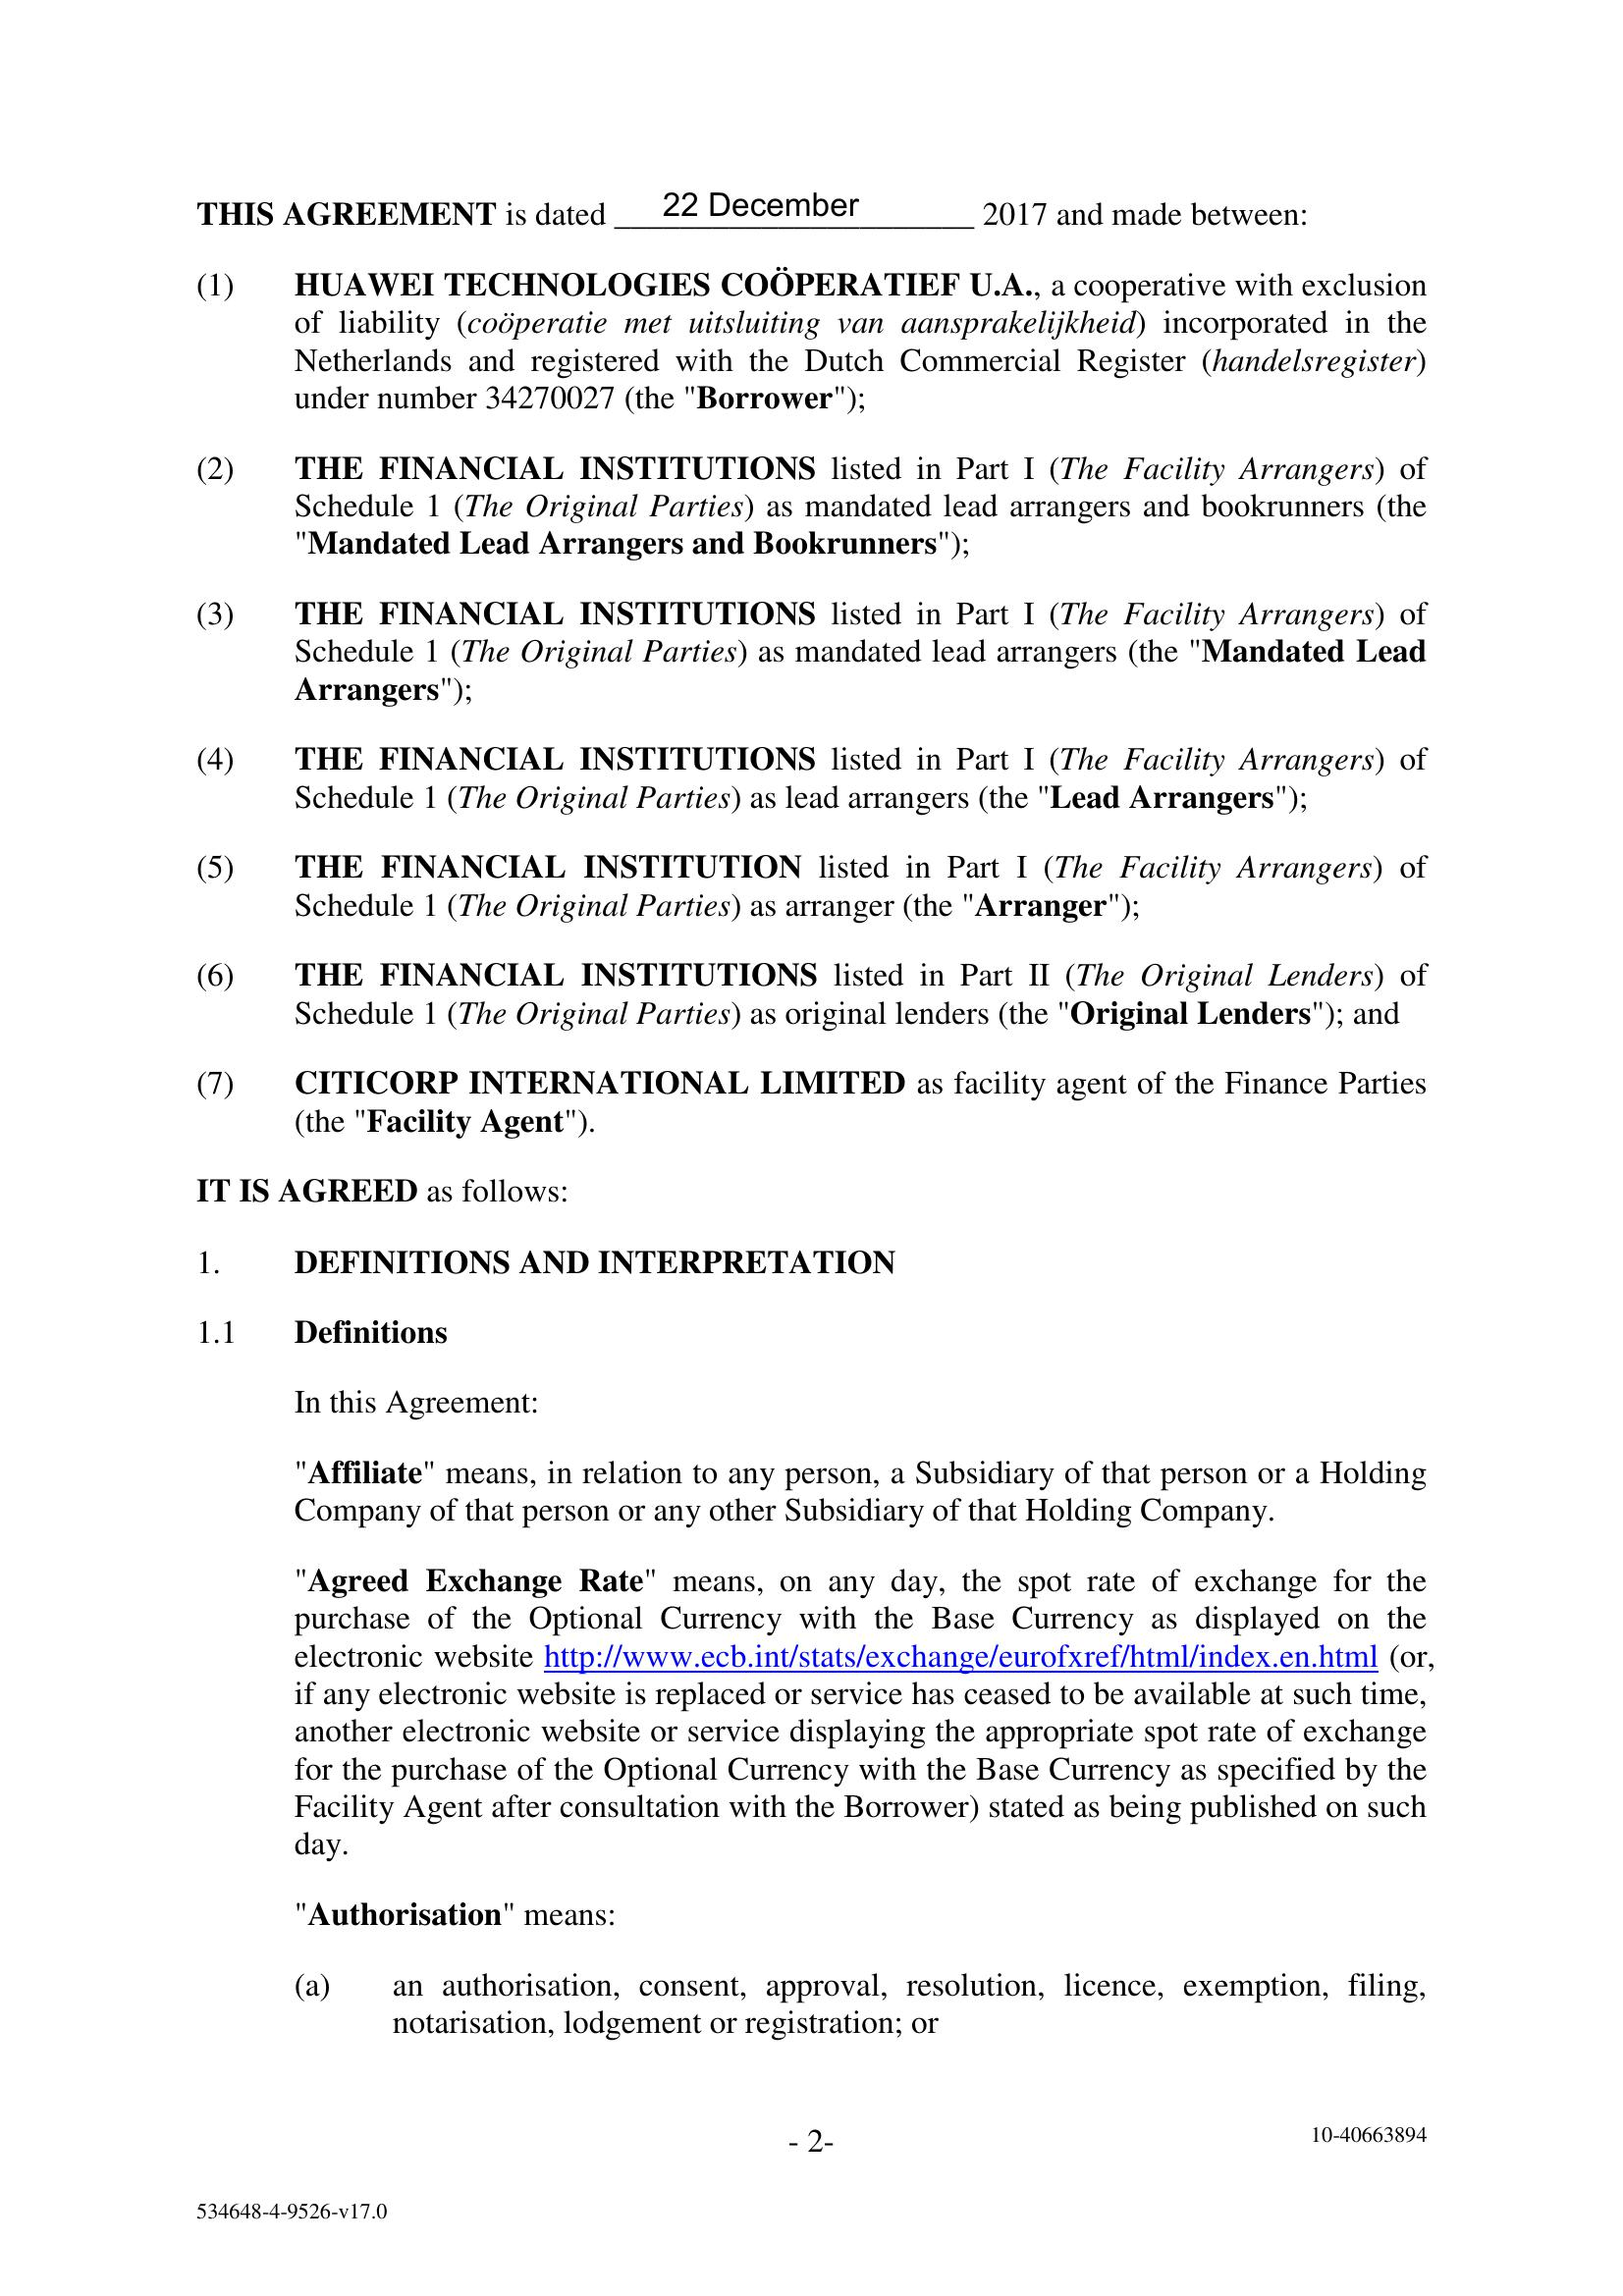pageno: (724, 2078, 906, 2219)
tag: (102, 2161, 499, 2261), (1208, 2085, 1537, 2191)
